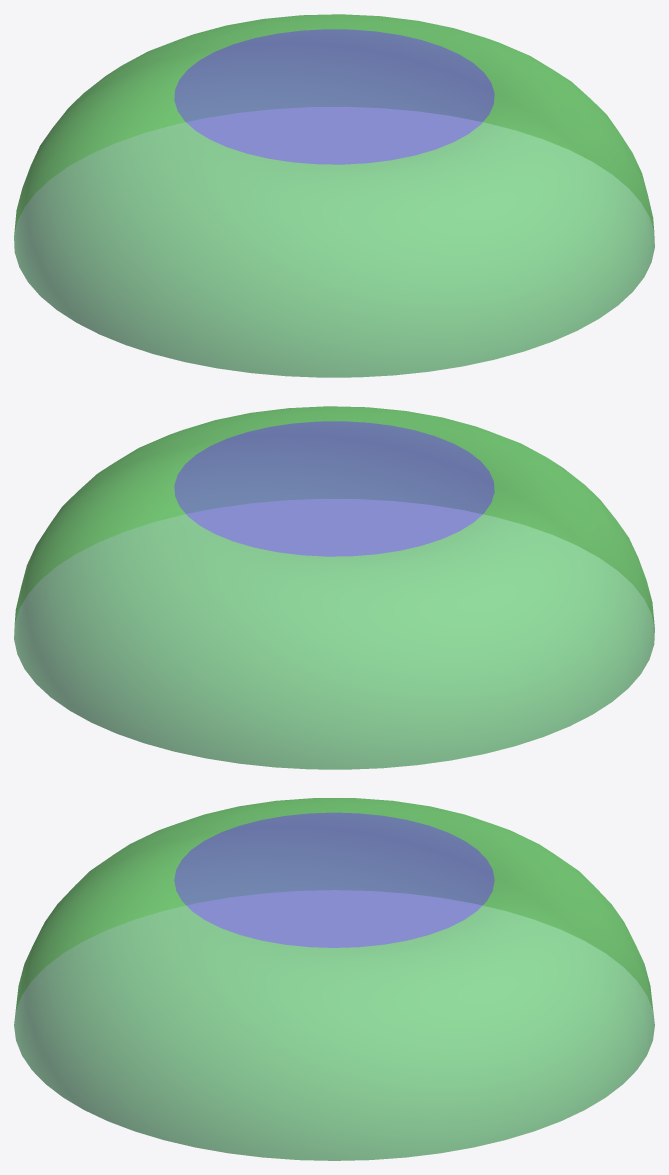
The picture shows the model from 3 angles, top to bottom: view 1: azimuth 30°, elevation 25°; view 2: azimuth 150°, elevation 25°; view 3: azimuth 270°, elevation 25°; orthographic projection.
Visible parts, largest first — view 1: ID2; view 2: ID2; view 3: ID2.
Boxes of the visible parts, x1=… form: ID2: x1=14, y1=14, x2=654, y2=377; ID2: x1=14, y1=406, x2=654, y2=769; ID2: x1=14, y1=798, x2=654, y2=1160.
Size of the model in its own units: 0.008 by 0.008 by 0.002.
